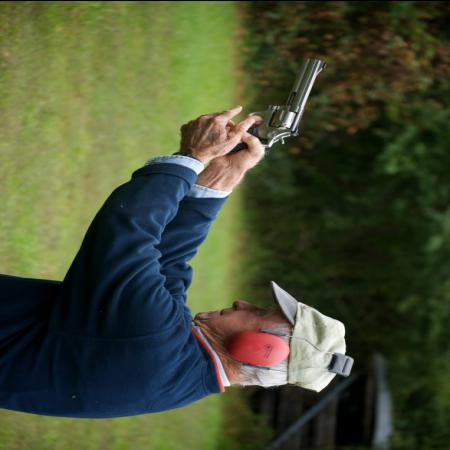Pistol: (171, 55, 332, 160)
